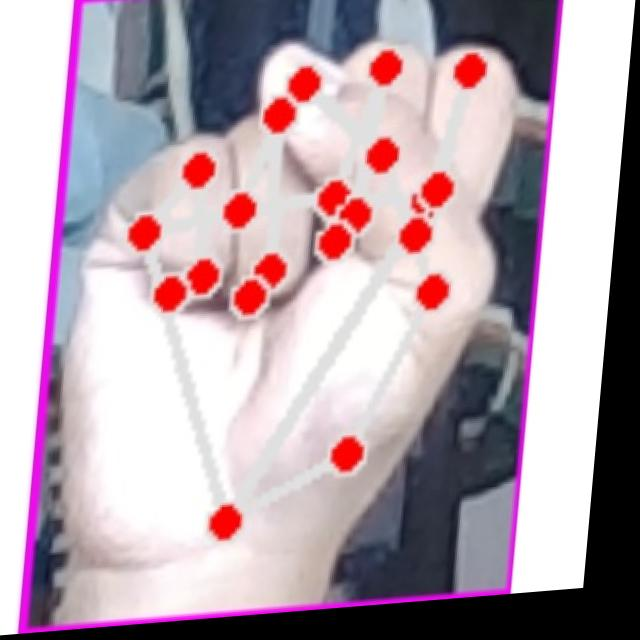S: (52, 23, 520, 598)
